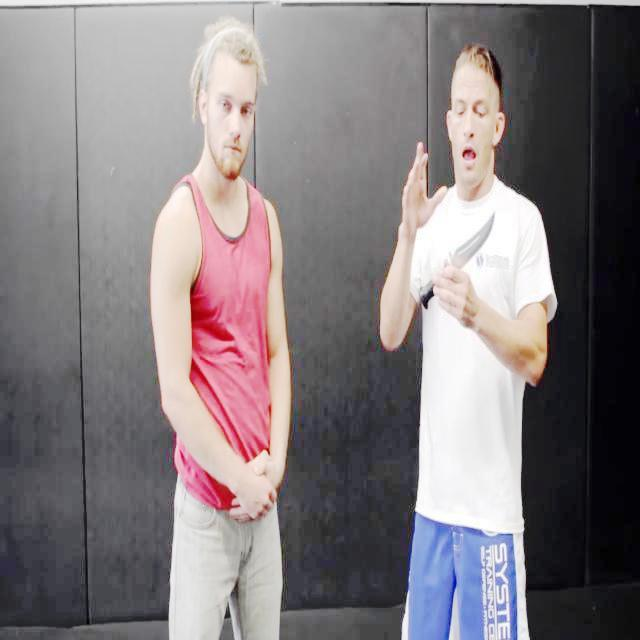Knife: (412, 208, 496, 316)
